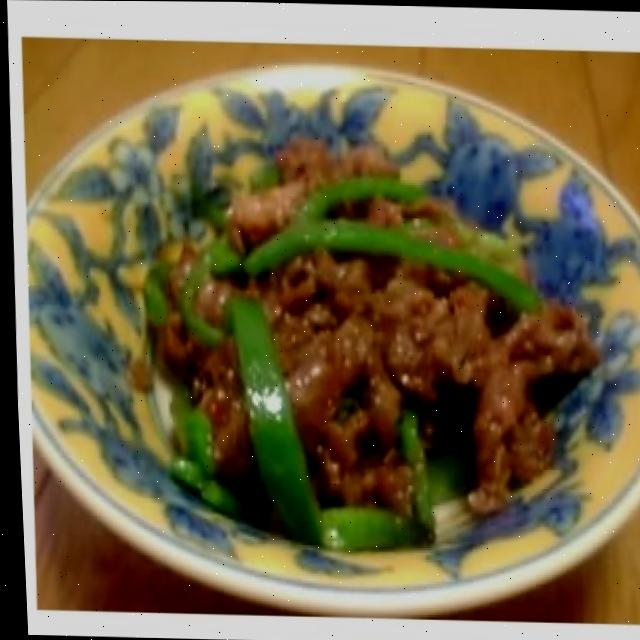牛肉菜式: (29, 67, 629, 575)
